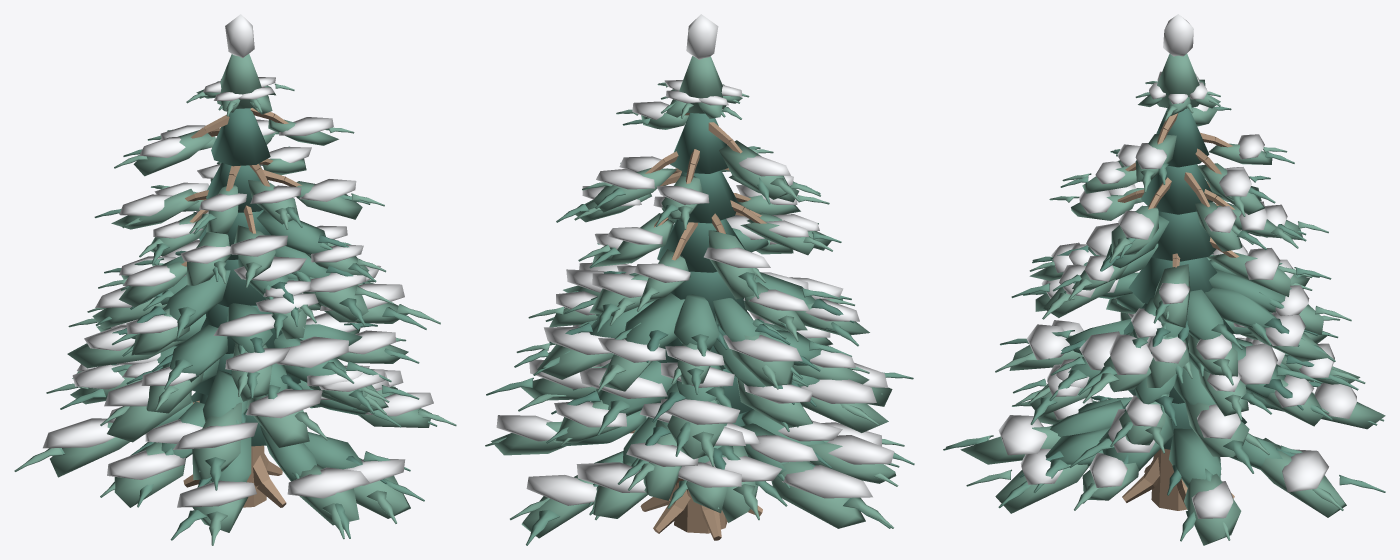
The model's file is Snow_Pine_Small_1.gltf.
3 views of the same model, side by side, from view 1: azimuth 30°, elevation 25°; view 2: azimuth 150°, elevation 25°; view 3: azimuth 270°, elevation 25° (orthographic). The views are drawn at different scales.
Visible parts, largest first — view 1: Snow_Pine_Small_1; view 2: Snow_Pine_Small_1; view 3: Snow_Pine_Small_1.
Boxes of the visible parts, box(x1,y1,x2,y2) form: Snow_Pine_Small_1: box(14, 14, 456, 545); Snow_Pine_Small_1: box(485, 14, 914, 545); Snow_Pine_Small_1: box(943, 14, 1385, 545).
Bounding box in the file's own units: 2.67 × 3.19 × 2.63.
